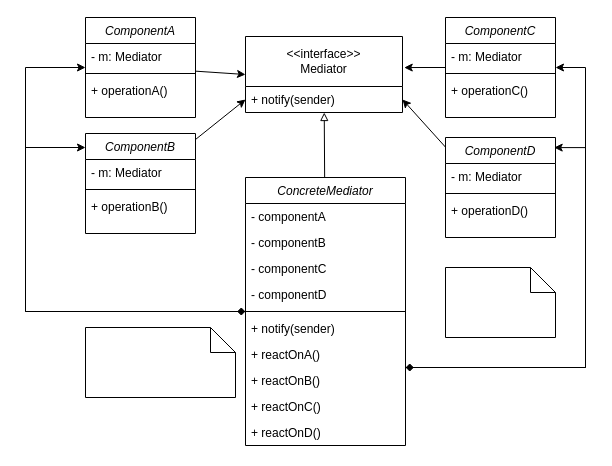
This 612x466 diagram has some shape labels left out. The shapes that lost their labels are listed below. From the top down, each one's centre as x and y in pixels, then its label:
(x=500, y=302): m.notify(this)
(x=160, y=362): if (sender == componentA) reactOnA()
